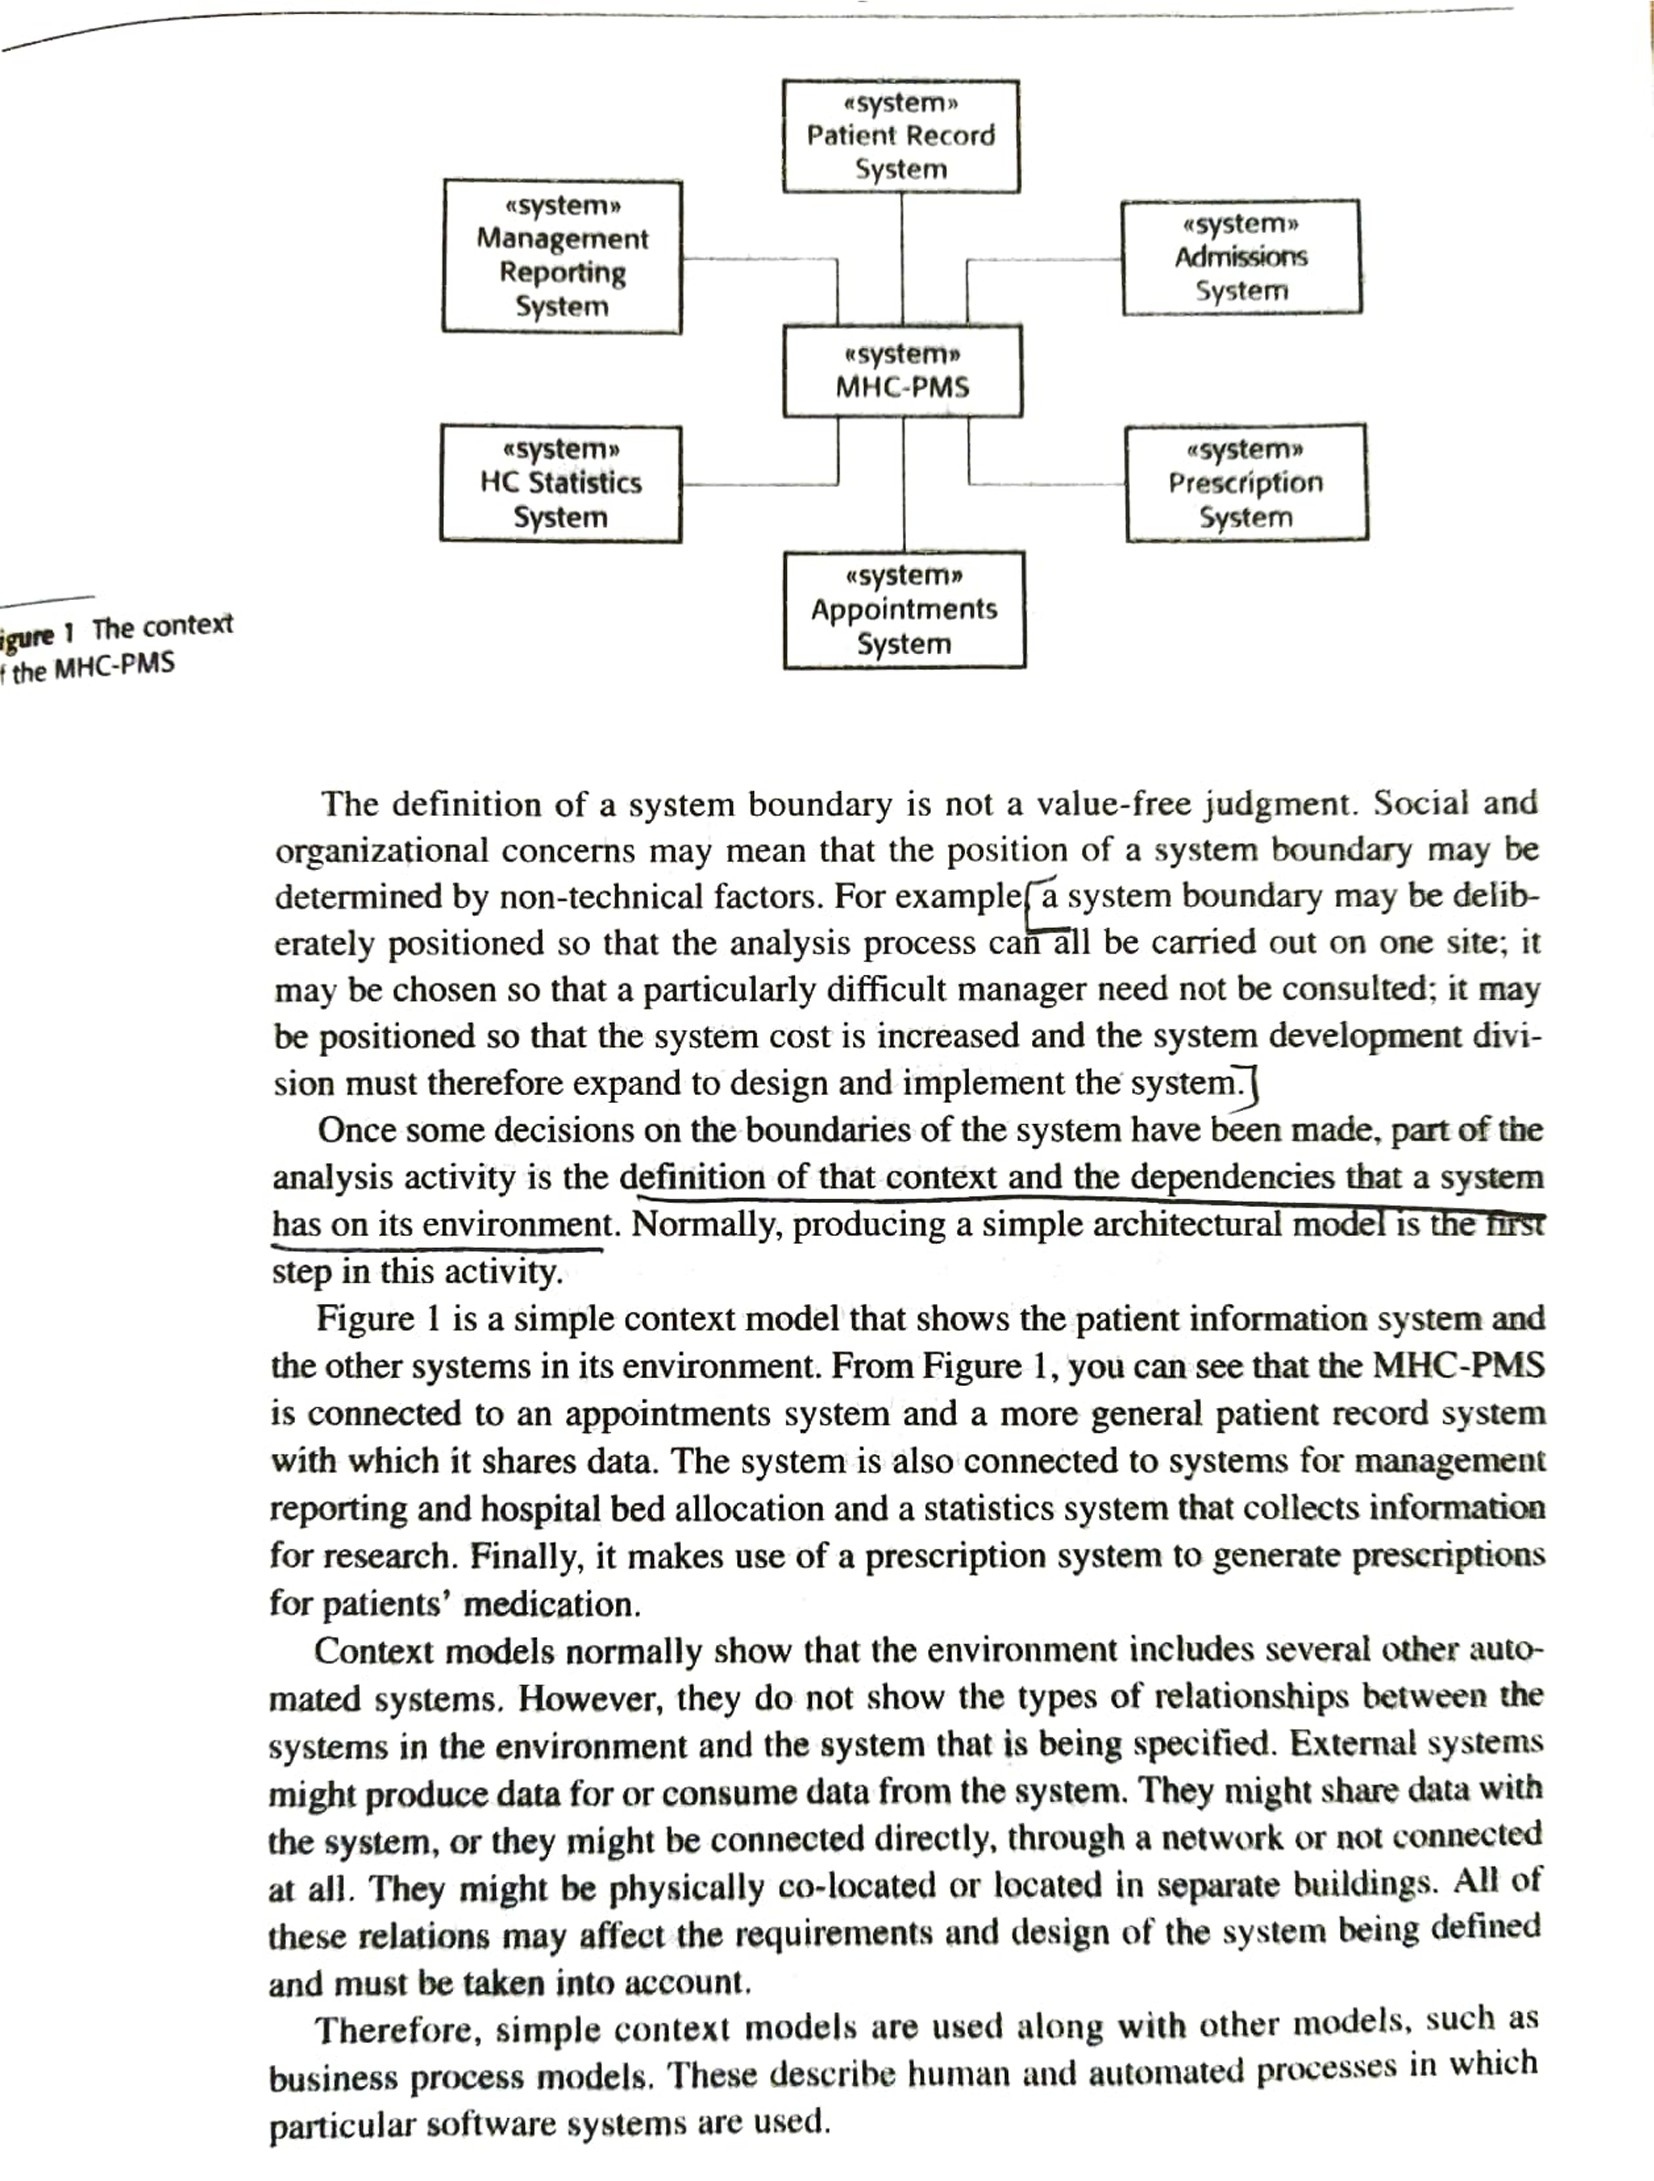BB1: (217, 763, 1597, 1289)
BB2: (221, 1288, 1612, 1634)
BB3: (222, 1627, 1619, 2153)
